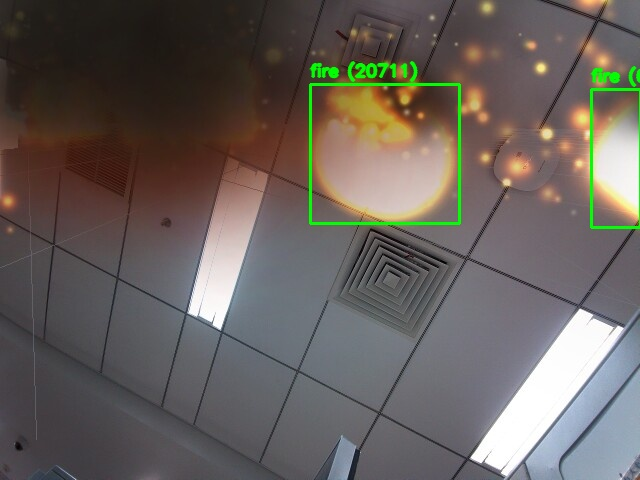fire: (310, 84, 459, 223), (591, 89, 640, 227)
